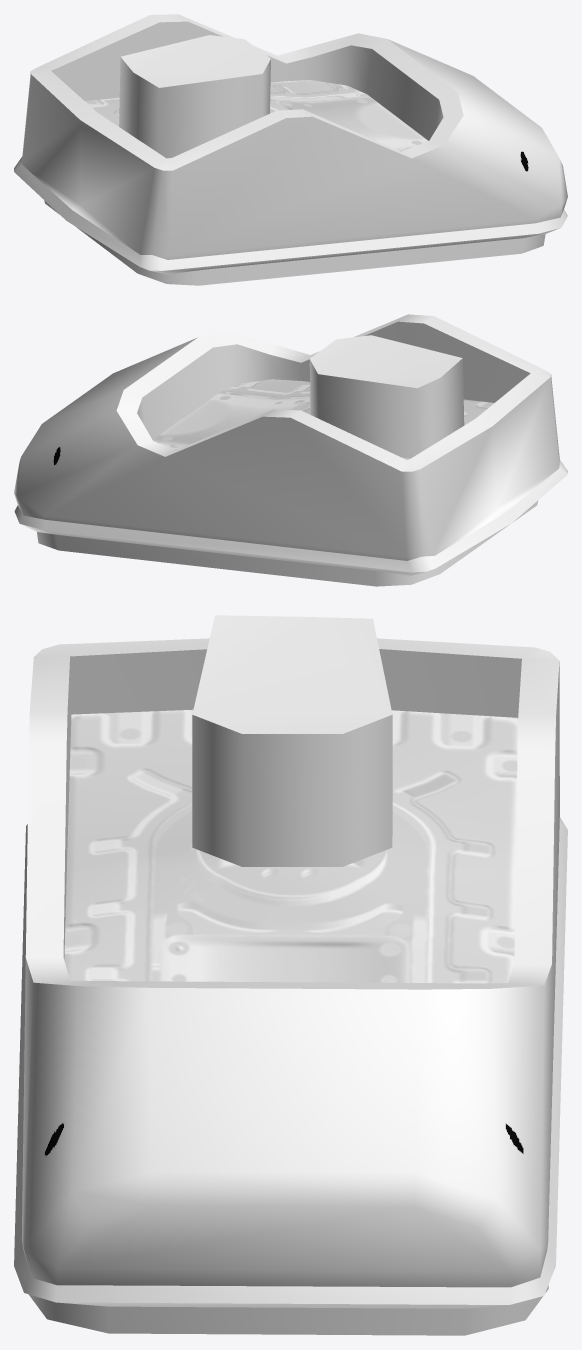
Rendered from foot_Left.dae.
3 views of the same model, one above another, from view 1: azimuth 30°, elevation 25°; view 2: azimuth 150°, elevation 25°; view 3: azimuth 270°, elevation 25° (orthographic). The views are drawn at different scales.
Visible parts, largest first — view 1: Cube; view 2: Cube; view 3: Cube.
Boxes of the visible parts, x1,y1,x2,y2 form: Cube: (14, 14, 567, 285); Cube: (14, 314, 567, 586); Cube: (14, 615, 567, 1335).
Size of the model in its own units: 0.28 by 0.1604 by 0.1262.
1 material, 1 textured.
